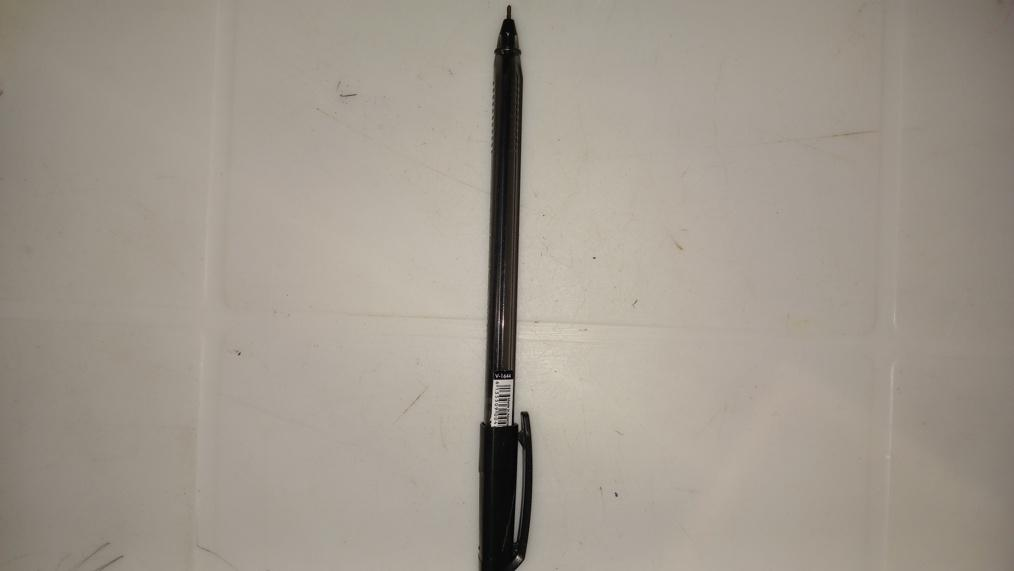pen: (480, 5, 537, 567)
